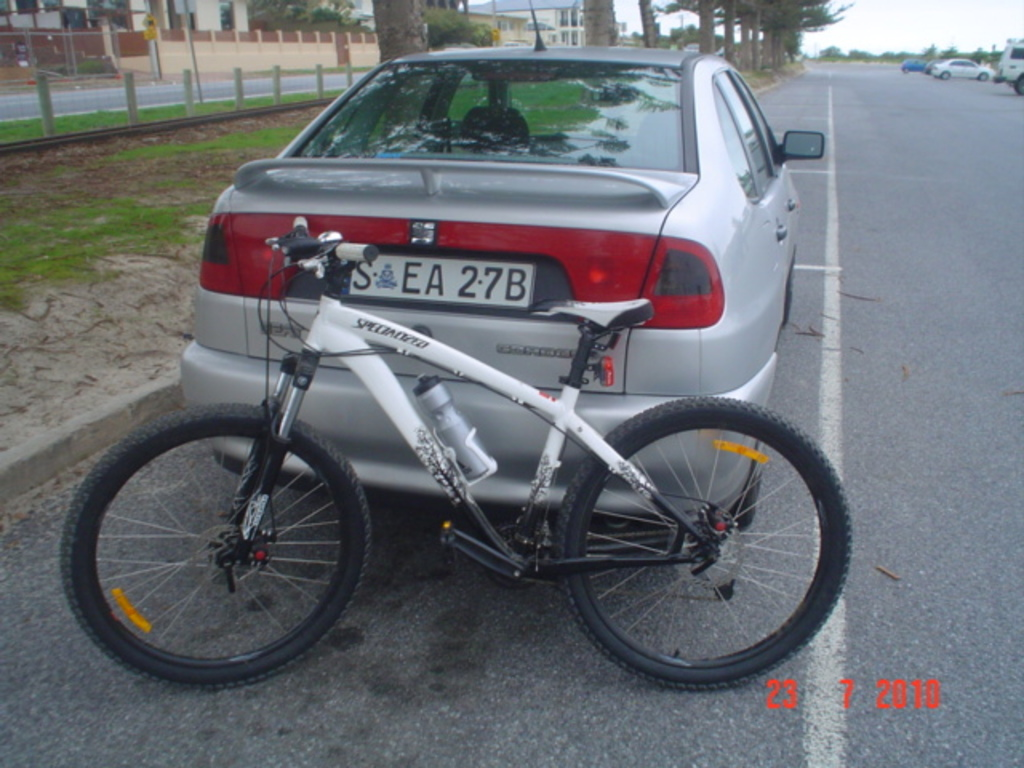license plate: (355, 244, 541, 296)
